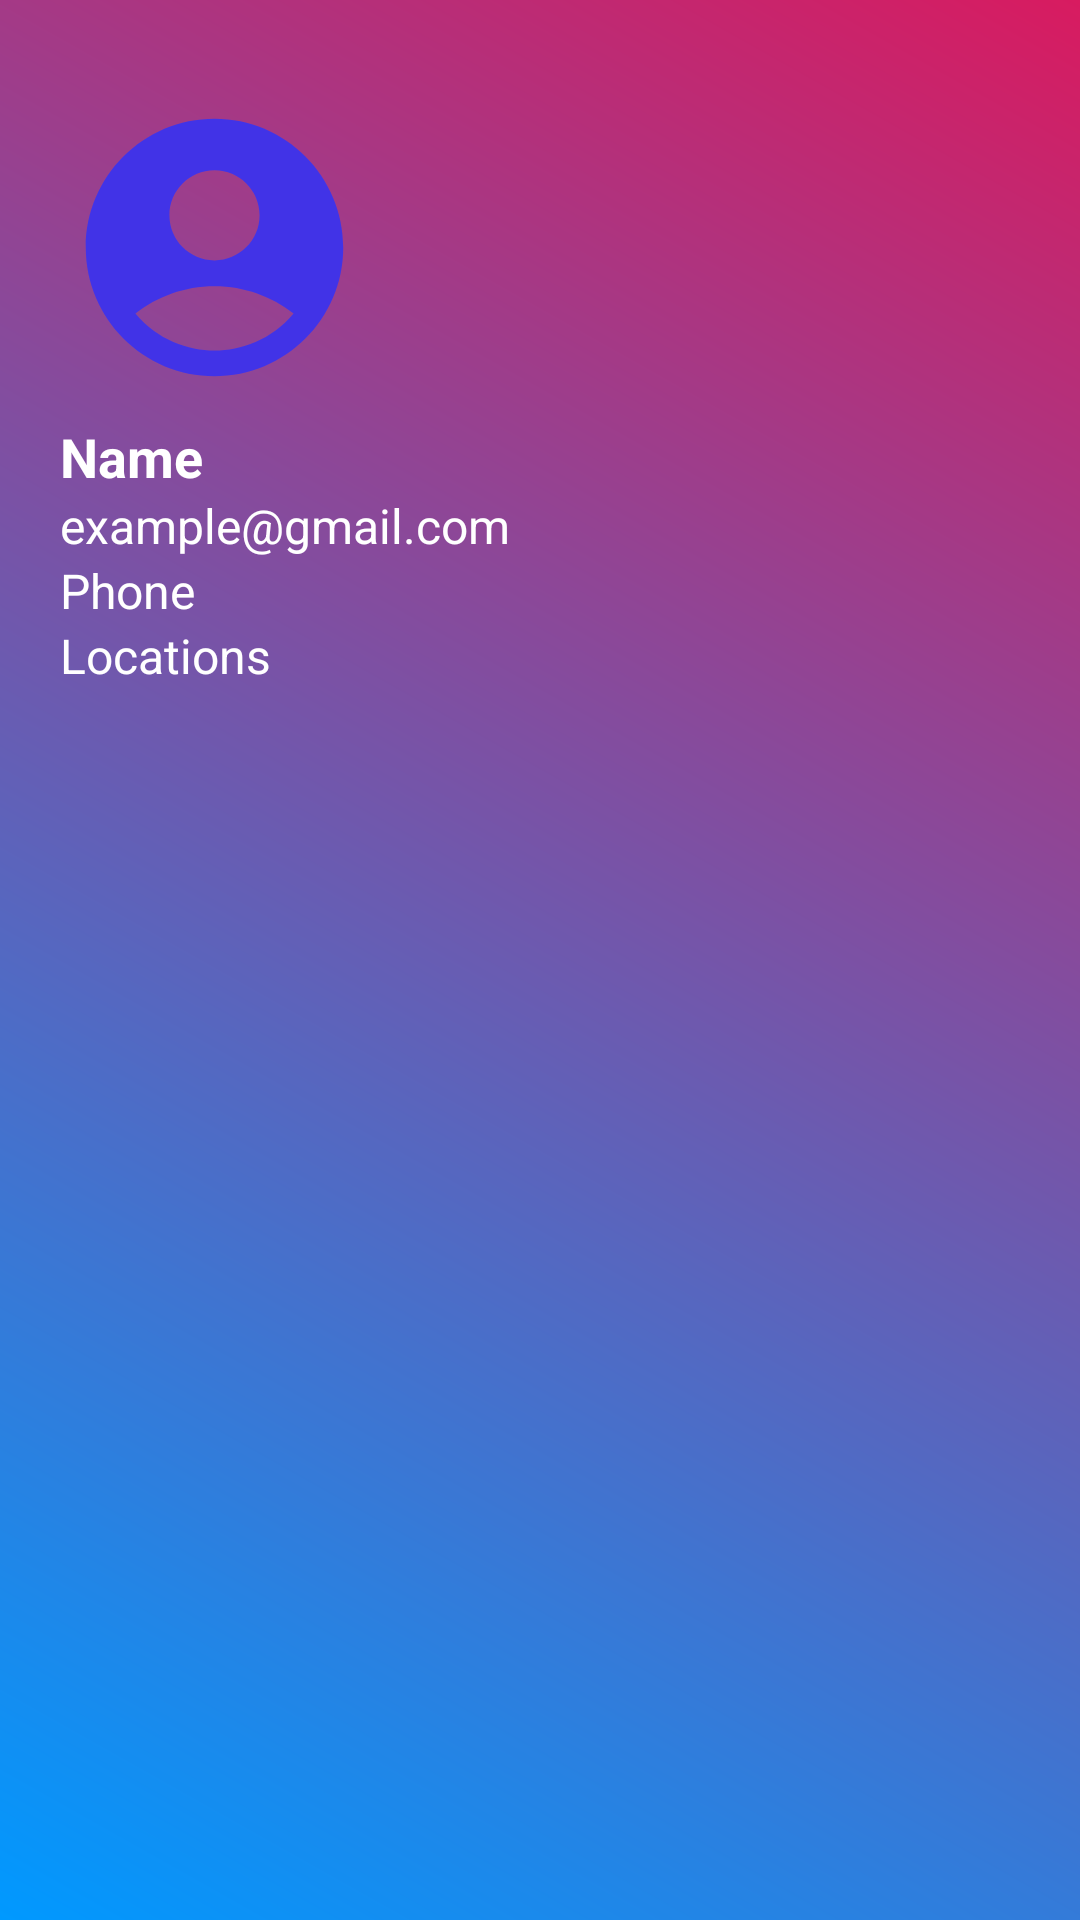

Locate icon controls on the screen. Image size 1080 x 1920, boxes as region(x1, y1, x2, y2).
account circle: region(85, 119, 343, 376)
